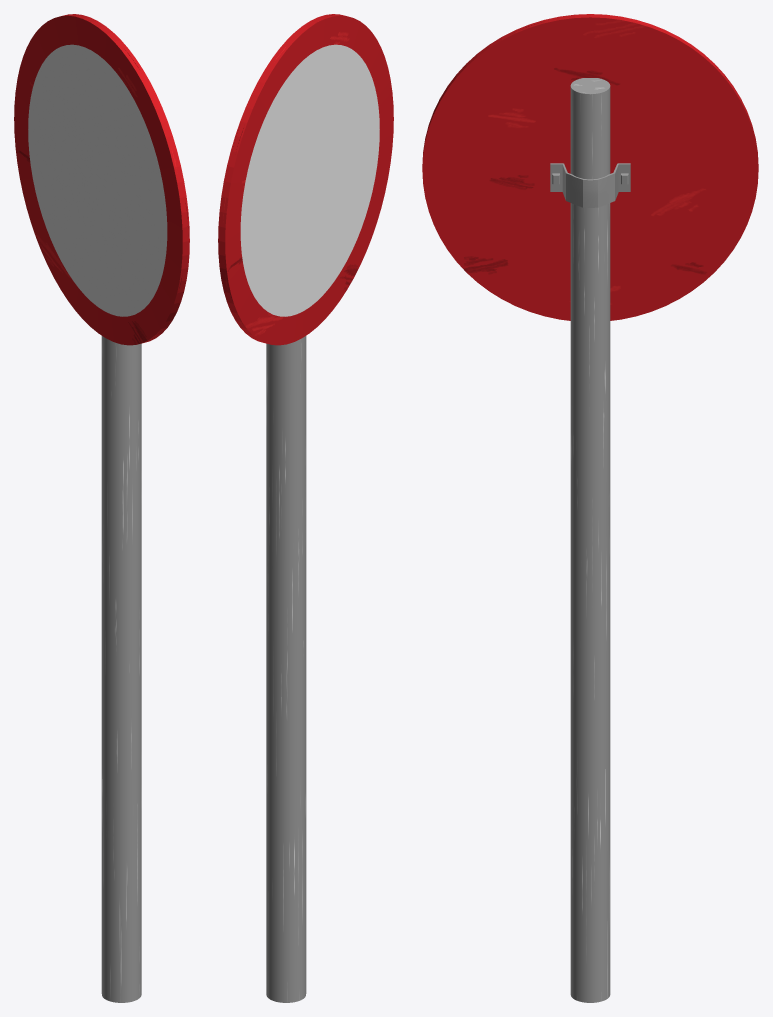
File: Panneau 2.fbx
3 renders of one model, left to right at view 1: azimuth 30°, elevation 25°; view 2: azimuth 150°, elevation 25°; view 3: azimuth 270°, elevation 25°, orthographic.
Visible parts, largest first — view 1: panneau rond, attache; view 2: panneau rond, attache; view 3: panneau rond, attache.
Part boxes in pixels (box(x1,y1,x2,y2)): panneau rond: box(14, 14, 189, 345); attache: box(101, 336, 141, 1002); panneau rond: box(218, 14, 393, 345); attache: box(266, 336, 306, 1002); panneau rond: box(422, 14, 758, 320); attache: box(550, 78, 630, 1002).
Bounding box in the file's own units: 28.79 × 606 × 191.
4 materials, 2 textured.
